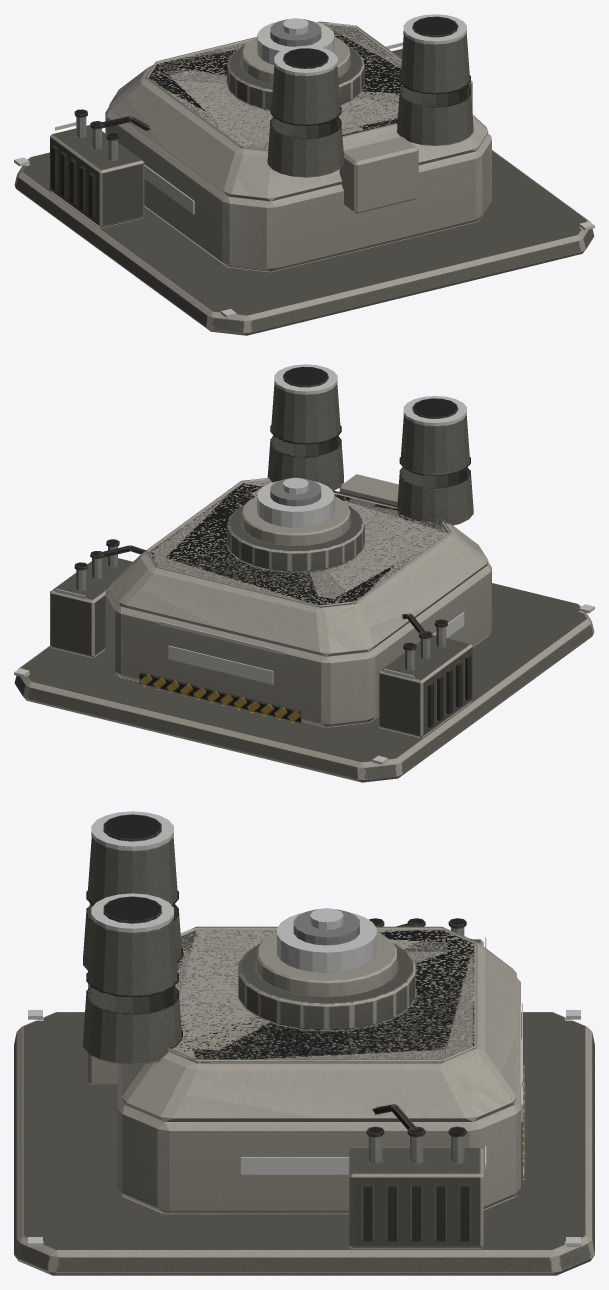
Rendered from ord_generator.fbx.
3 renders of one model, top to bottom at view 1: azimuth 30°, elevation 25°; view 2: azimuth 150°, elevation 25°; view 3: azimuth 270°, elevation 25°, orthographic. The views are drawn at different scales.
Parts seen in each view (by area): view 1: base_bar, base_glow_power_bar, core_glow_power_bar, core_bar, base_glow_running_bar; view 2: base_bar, base_glow_power_bar, core_glow_power_bar, base_glow_running_bar, core_bar; view 3: base_bar, base_glow_power_bar, core_glow_power_bar, core_bar, base_glow_running_bar.
Part boxes in pixels (x1,y1,x2,y2): base_bar: (14, 16, 594, 335); base_glow_power_bar: (144, 14, 466, 214); core_glow_power_bar: (257, 18, 334, 64); core_bar: (270, 19, 321, 46); base_glow_running_bar: (14, 42, 594, 317); base_bar: (14, 366, 594, 782); base_glow_power_bar: (168, 364, 466, 684); core_glow_power_bar: (257, 477, 334, 527); base_glow_running_bar: (14, 588, 594, 764); core_bar: (270, 478, 321, 506); base_bar: (14, 814, 594, 1275); base_glow_power_bar: (91, 811, 522, 1174); core_glow_power_bar: (277, 908, 376, 972); core_bar: (293, 909, 359, 945); base_glow_running_bar: (28, 937, 580, 1246).
Bounding box in the file's own units: 1555 × 1047 × 1555.
2 materials, 2 textured.
